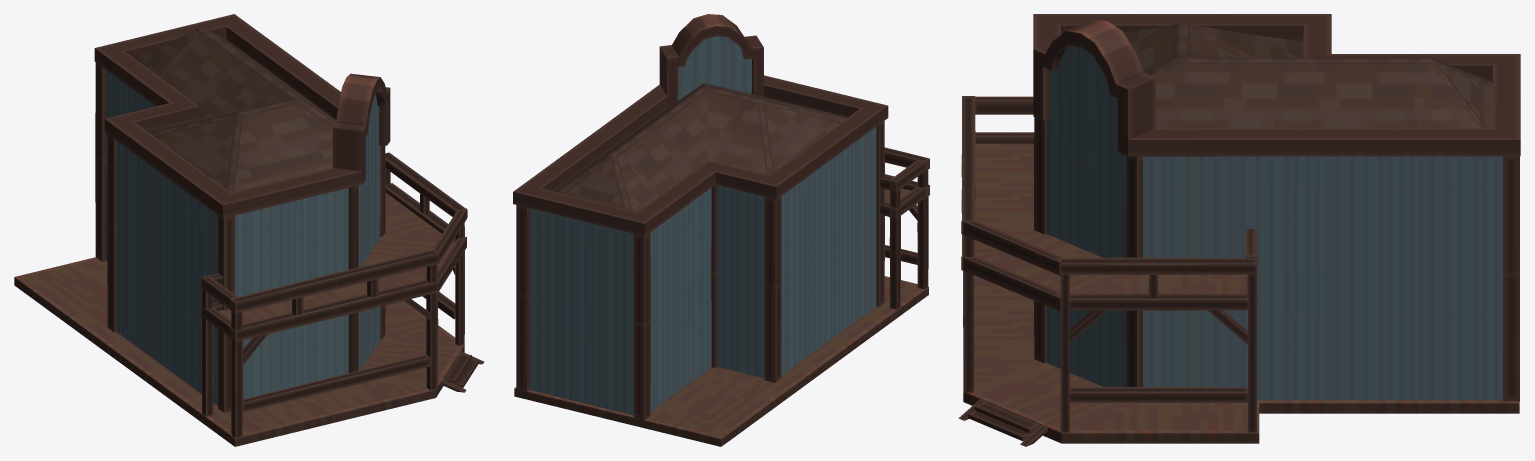
Rendered from house_v4_blank_ncl1_8.fbx.
3 renders of one model, left to right at view 1: azimuth 30°, elevation 25°; view 2: azimuth 150°, elevation 25°; view 3: azimuth 270°, elevation 25°, orthographic. The views are drawn at different scales.
Parts seen in each view (by area): view 1: house_v4_blank; view 2: house_v4_blank; view 3: house_v4_blank.
Boxes of the visible parts, <box> form: house_v4_blank: <box>14,14,484,446</box>; house_v4_blank: <box>513,14,929,446</box>; house_v4_blank: <box>958,14,1520,446</box>.
Size of the model in its own units: 845 by 842 by 1189.
